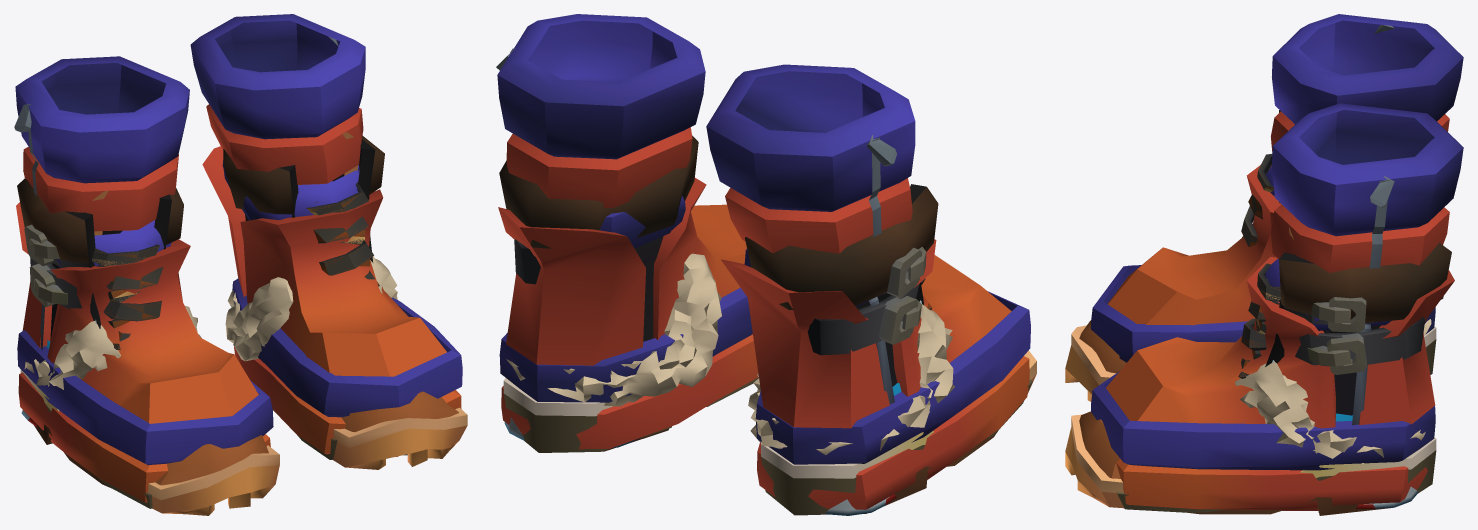
The model's file is ShoeImport.glb.
3 renders of one model, left to right at view 1: azimuth 30°, elevation 25°; view 2: azimuth 150°, elevation 25°; view 3: azimuth 270°, elevation 25°, orthographic. The views are drawn at different scales.
Parts seen in each view (by area): view 1: MoonBoots_R, MoonBoots_L, OutdoorBoots_R, OutdoorBoots_L, CombatBoots_R, FluffyClogs_L, CombatBoots_L, FluffyClogs_R; view 2: MoonBoots_R, MoonBoots_L, OutdoorBoots_R, FluffyClogs_L, CombatBoots_R, OutdoorBoots_L, FluffyClogs_R, CombatBoots_L; view 3: MoonBoots_L, MoonBoots_R, OutdoorBoots_L, CombatBoots_L, FluffyClogs_L, OutdoorBoots_R, CombatBoots_R.
Part boxes in pixels (left/top/right/bottom): MoonBoots_R: left=14, top=56, right=273, bottom=502; MoonBoots_L: left=190, top=14, right=462, bottom=456; OutdoorBoots_R: left=17, top=178, right=279, bottom=515; OutdoorBoots_L: left=223, top=132, right=467, bottom=469; CombatBoots_R: left=24, top=194, right=171, bottom=508; FluffyClogs_L: left=225, top=256, right=397, bottom=361; CombatBoots_L: left=279, top=139, right=379, bottom=459; FluffyClogs_R: left=24, top=306, right=201, bottom=488; MoonBoots_R: left=706, top=64, right=1030, bottom=509; MoonBoots_L: left=496, top=14, right=758, bottom=449; OutdoorBoots_R: left=745, top=187, right=1036, bottom=478; FluffyClogs_L: left=506, top=253, right=721, bottom=451; CombatBoots_R: left=761, top=184, right=1032, bottom=515; OutdoorBoots_L: left=499, top=135, right=698, bottom=416; FluffyClogs_R: left=748, top=304, right=998, bottom=513; CombatBoots_L: left=503, top=239, right=757, bottom=452; MoonBoots_L: left=1091, top=103, right=1463, bottom=510; MoonBoots_R: left=1091, top=14, right=1463, bottom=362; OutdoorBoots_L: left=1065, top=227, right=1451, bottom=508; CombatBoots_L: left=1116, top=252, right=1436, bottom=512; FluffyClogs_L: left=1187, top=362, right=1425, bottom=515; OutdoorBoots_R: left=1065, top=172, right=1436, bottom=401; CombatBoots_R: left=1241, top=110, right=1436, bottom=374.
Size of the model in its own units: 1.02 by 0.9156 by 0.9712.
